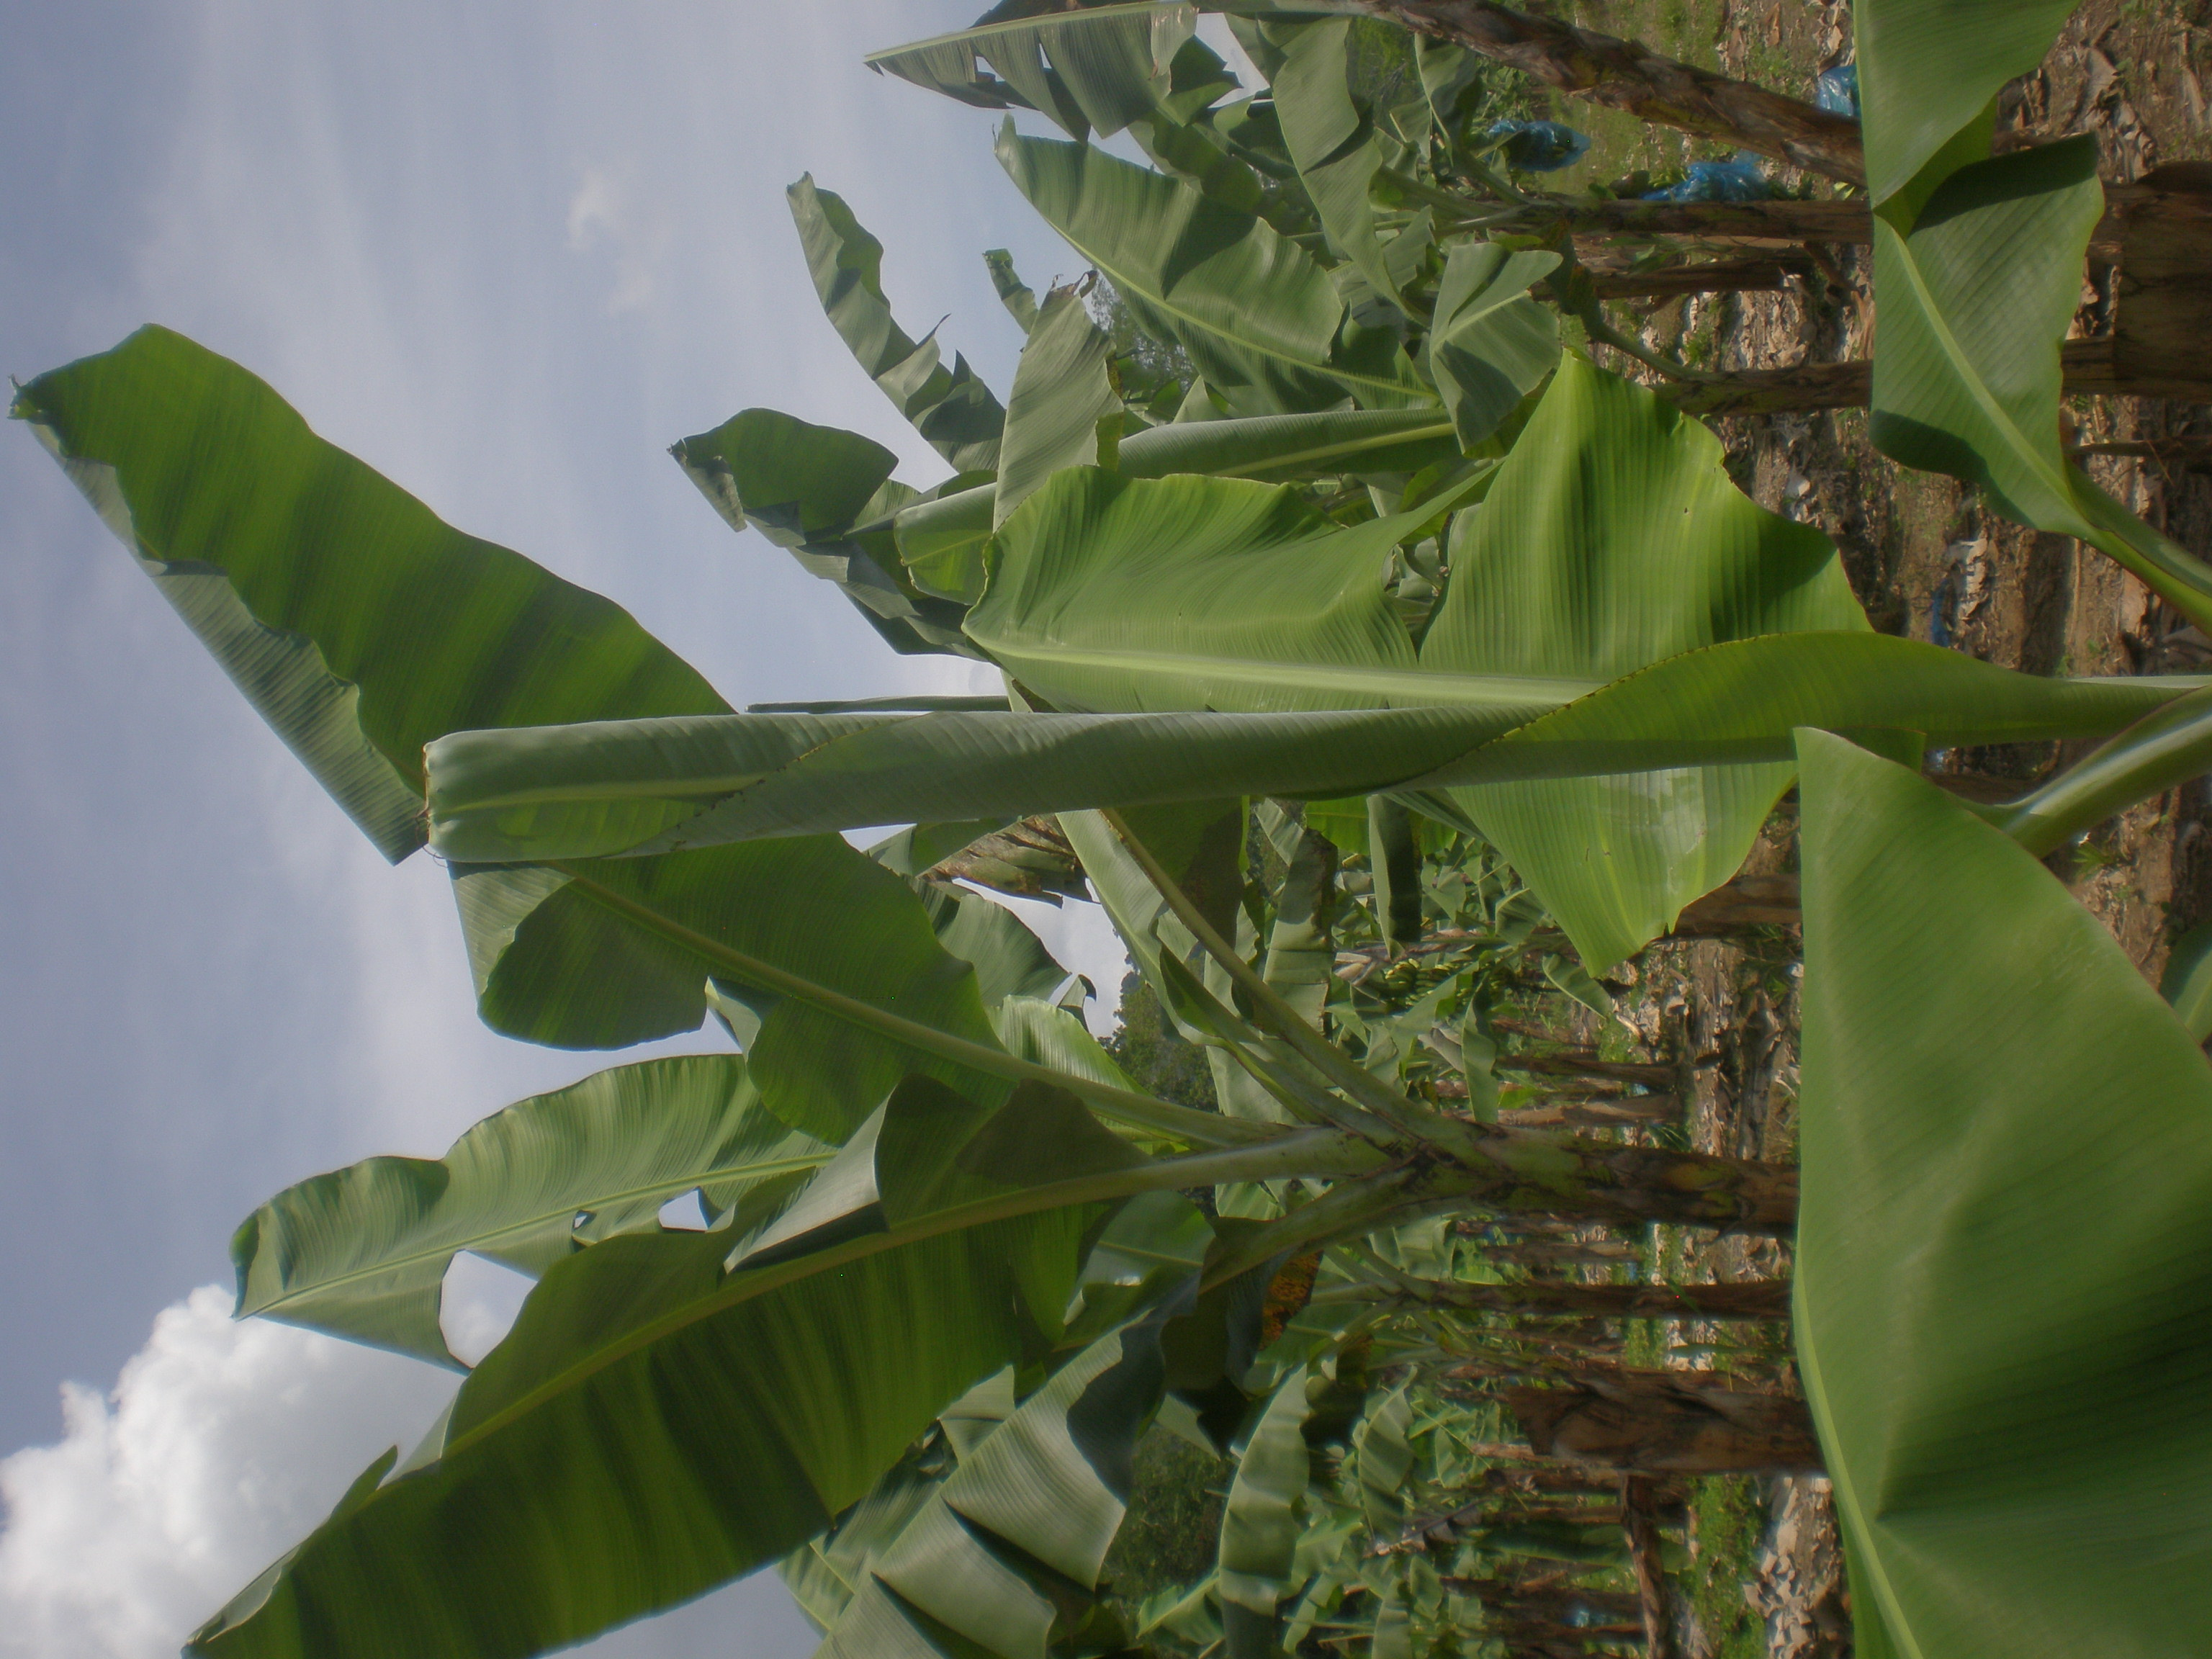candleleafs: (420, 706, 1754, 863)
